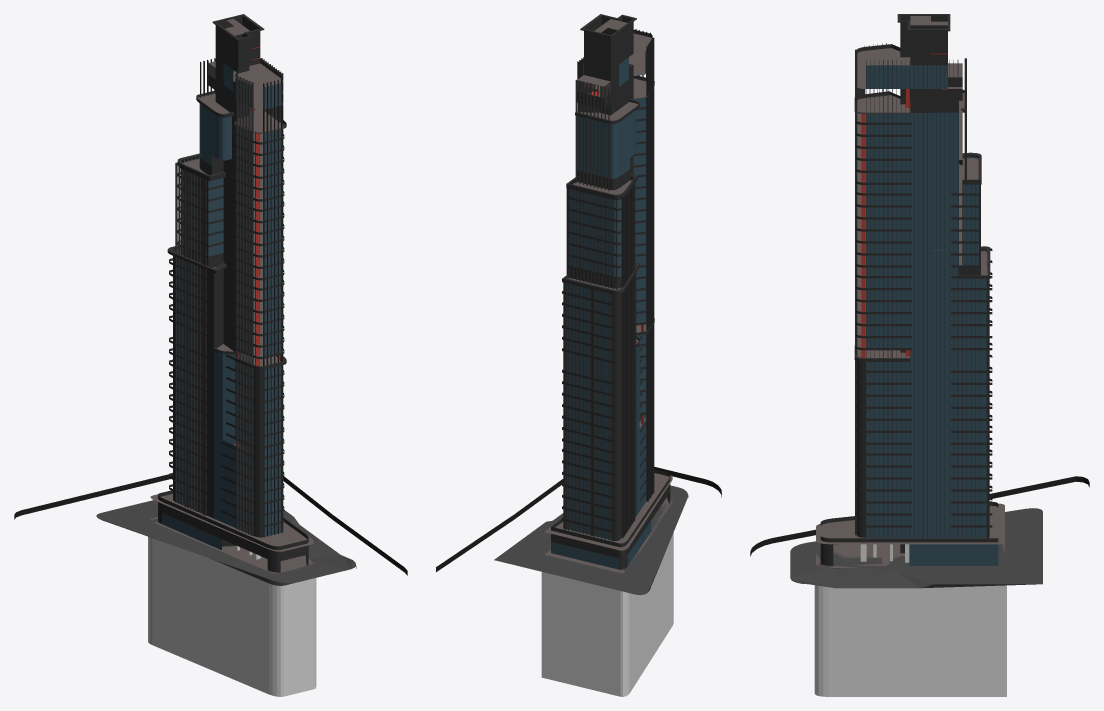
3 renders of one model, left to right at view 1: azimuth 30°, elevation 25°; view 2: azimuth 150°, elevation 25°; view 3: azimuth 270°, elevation 25°, orthographic. The views are drawn at different scales.
Visible parts, largest first — view 1: floorplates.003, glazing facade, Cube.008, structure-walls, Cube.002, site, Cube.004, floorplates.039, floorplates.014, floorplates.007, floorplates.008, Beam.005 (+8 smaller); view 2: floorplates.003, glazing facade, site, Cube.006, Cube.002, Cube.008, floorplates.039, floorplates.014, structure-walls, Cube.007, Cube.027, floorplates.009 (+9 smaller); view 3: glazing facade, floorplates.003, Cube.003, site, floorplates.039, structure-walls, floorplates.037, floorplates.007, floorplates.008, floorplates.009, Cube.005, floorplates (+8 smaller).
Part boxes in pixels (bbox=[...]): floorplates.003: bbox=[148, 490, 316, 696]; glazing facade: bbox=[174, 103, 281, 537]; Cube.008: bbox=[175, 162, 203, 514]; structure-walls: bbox=[167, 91, 286, 537]; Cube.002: bbox=[236, 75, 253, 535]; site: bbox=[14, 474, 407, 583]; Cube.004: bbox=[263, 79, 282, 537]; floorplates.039: bbox=[212, 14, 283, 87]; floorplates.014: bbox=[177, 72, 283, 360]; floorplates.007: bbox=[169, 415, 284, 527]; floorplates.008: bbox=[169, 337, 284, 448]; Beam.005: bbox=[202, 178, 206, 515]; floorplates.003: bbox=[541, 469, 673, 696]; glazing facade: bbox=[567, 97, 646, 539]; site: bbox=[436, 467, 721, 594]; Cube.006: bbox=[564, 283, 612, 541]; Cube.002: bbox=[646, 37, 654, 501]; Cube.008: bbox=[621, 187, 632, 538]; floorplates.039: bbox=[580, 14, 651, 92]; floorplates.014: bbox=[566, 81, 639, 288]; structure-walls: bbox=[562, 75, 654, 540]; Cube.007: bbox=[569, 189, 617, 289]; Cube.027: bbox=[575, 79, 609, 191]; floorplates.009: bbox=[562, 252, 646, 363]; glazing facade: bbox=[866, 112, 986, 537]; floorplates.003: bbox=[814, 502, 1006, 696]; Cube.003: bbox=[866, 59, 958, 538]; site: bbox=[750, 476, 1089, 588]; floorplates.039: bbox=[857, 14, 950, 65]; structure-walls: bbox=[854, 89, 990, 553]; floorplates.037: bbox=[857, 44, 947, 99]; floorplates.007: bbox=[856, 425, 992, 527]; floorplates.008: bbox=[856, 342, 992, 444]; floorplates.009: bbox=[856, 248, 992, 350]; Cube.005: bbox=[962, 179, 979, 538]; floorplates: bbox=[857, 87, 987, 357].
Size of the model in its own units: 68.43 by 168 by 78.11.
